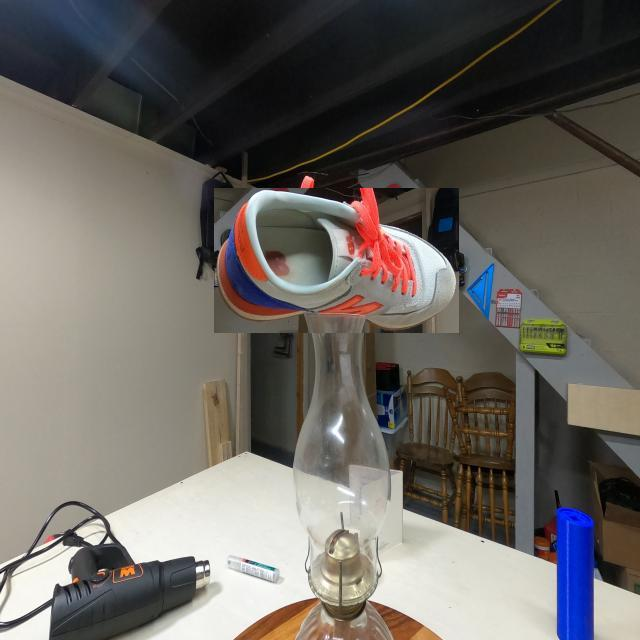shoe: (214, 188, 459, 333)
